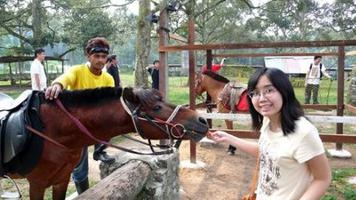person: (204, 68, 332, 200)
